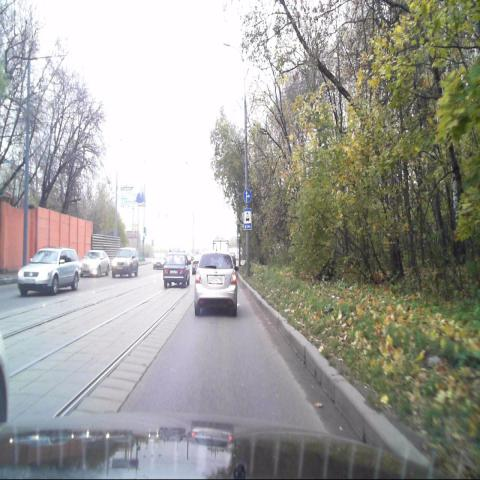4_1_4: (244, 189, 252, 203)
7_5: (244, 207, 252, 230)
